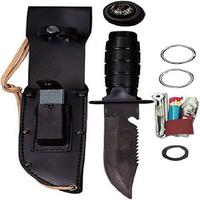knife: (95, 29, 152, 200)
